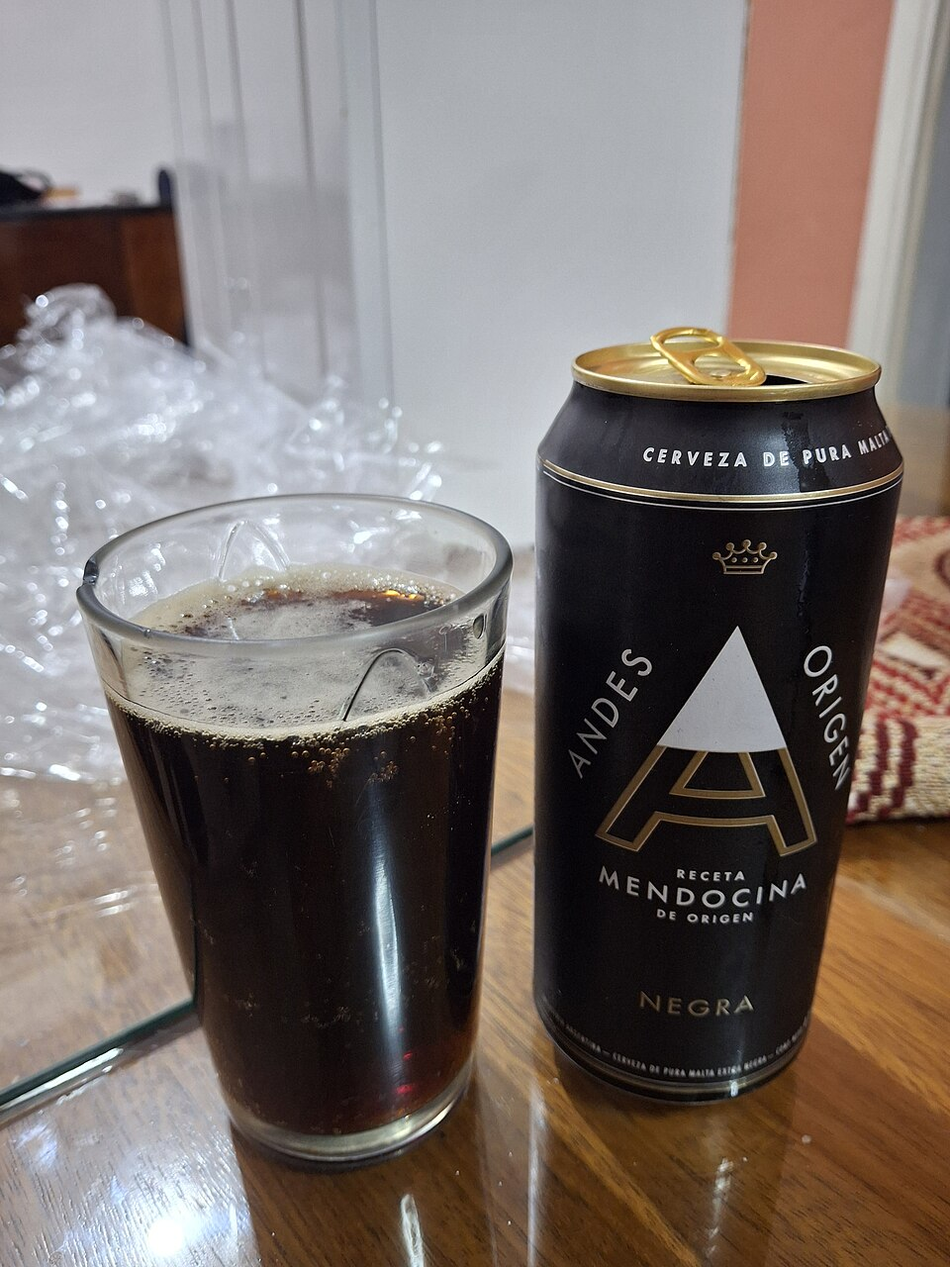beer-can: (523, 326, 914, 1139)
